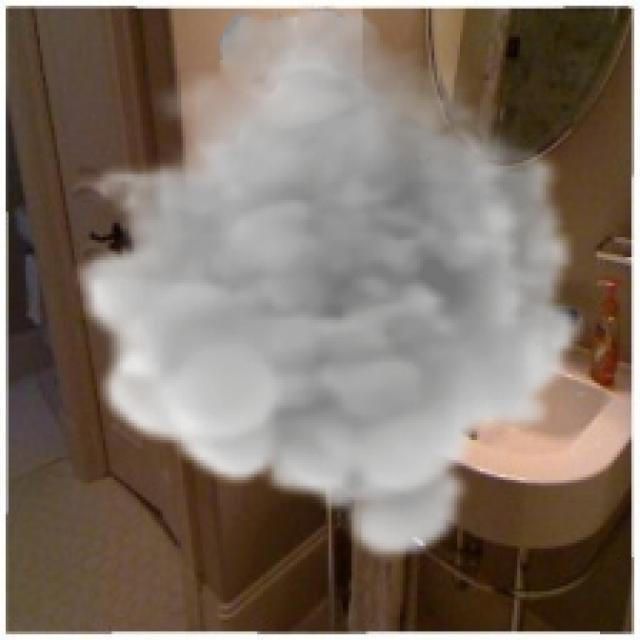smoke: (71, 3, 586, 566)
